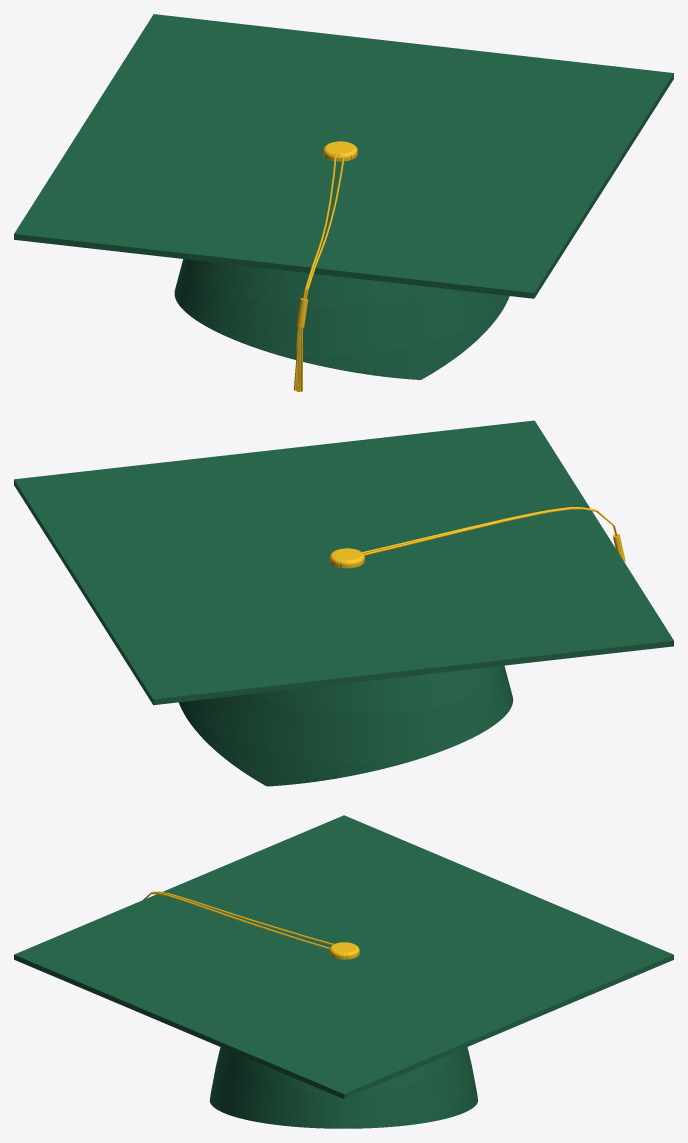
File: grad.glb
3 views of the same model, one above another, from view 1: azimuth 30°, elevation 25°; view 2: azimuth 150°, elevation 25°; view 3: azimuth 270°, elevation 25° (orthographic). The views are drawn at different scales.
Visible parts, largest first — view 1: Circle.003; view 2: Circle.003; view 3: Circle.003.
Boxes of the visible parts, x1,y1,x2,y2 form: Circle.003: (14,14,673,391); Circle.003: (14,420,673,786); Circle.003: (14,815,673,1128).
Bounding box in the file's own units: 2.83 × 0.7356 × 2.83.
3 materials, 3 textured.
